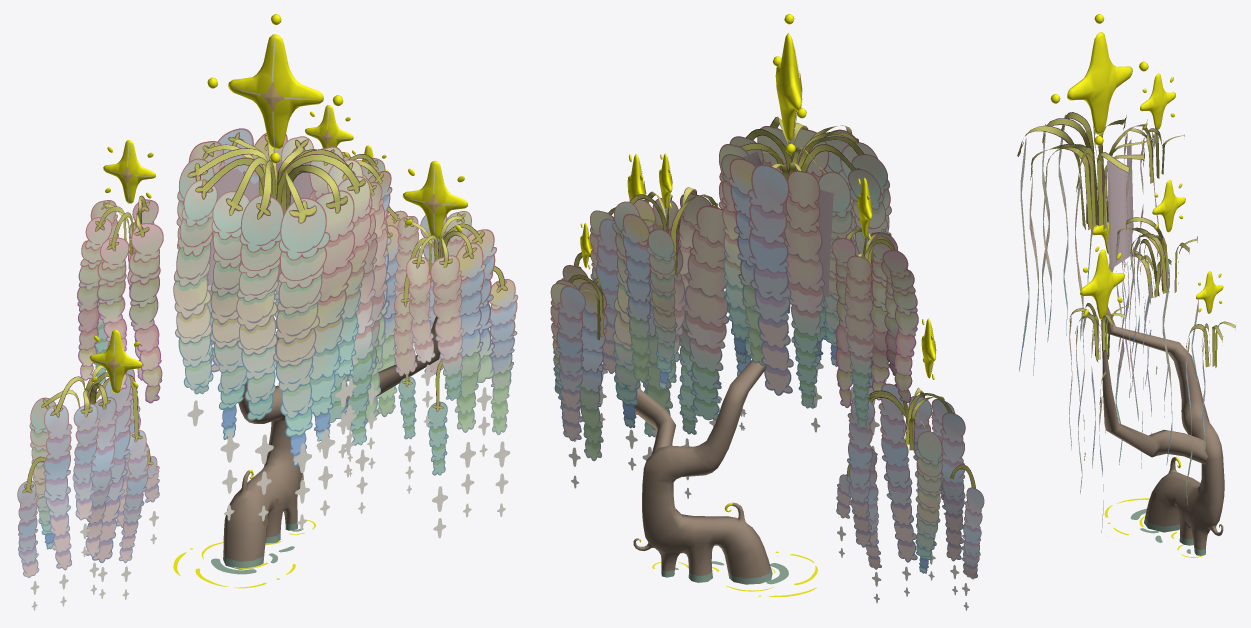
The model's file is Mesh_Home_RF_SBC_6_SM.fbx.
The picture shows the model from 3 angles, left to right: view 1: azimuth 30°, elevation 25°; view 2: azimuth 150°, elevation 25°; view 3: azimuth 270°, elevation 25°; orthographic projection. The views are drawn at different scales.
Visible parts, largest first — view 1: Mesh_Home_RF_SBC_6_P, Mesh_Home_RF_SBC_6; view 2: Mesh_Home_RF_SBC_6_P, Mesh_Home_RF_SBC_6; view 3: Mesh_Home_RF_SBC_6, Mesh_Home_RF_SBC_6_P.
Boxes of the visible parts, <box> form: Mesh_Home_RF_SBC_6_P: <box>17,37,518,610</box>; Mesh_Home_RF_SBC_6: <box>89,14,467,569</box>; Mesh_Home_RF_SBC_6_P: <box>550,50,984,610</box>; Mesh_Home_RF_SBC_6: <box>580,14,935,584</box>; Mesh_Home_RF_SBC_6: <box>1050,14,1224,555</box>; Mesh_Home_RF_SBC_6_P: <box>1017,112,1235,557</box>.
Size of the model in its own units: 1211 by 1397 by 547.
Materials: 1 (1 with a texture image).
